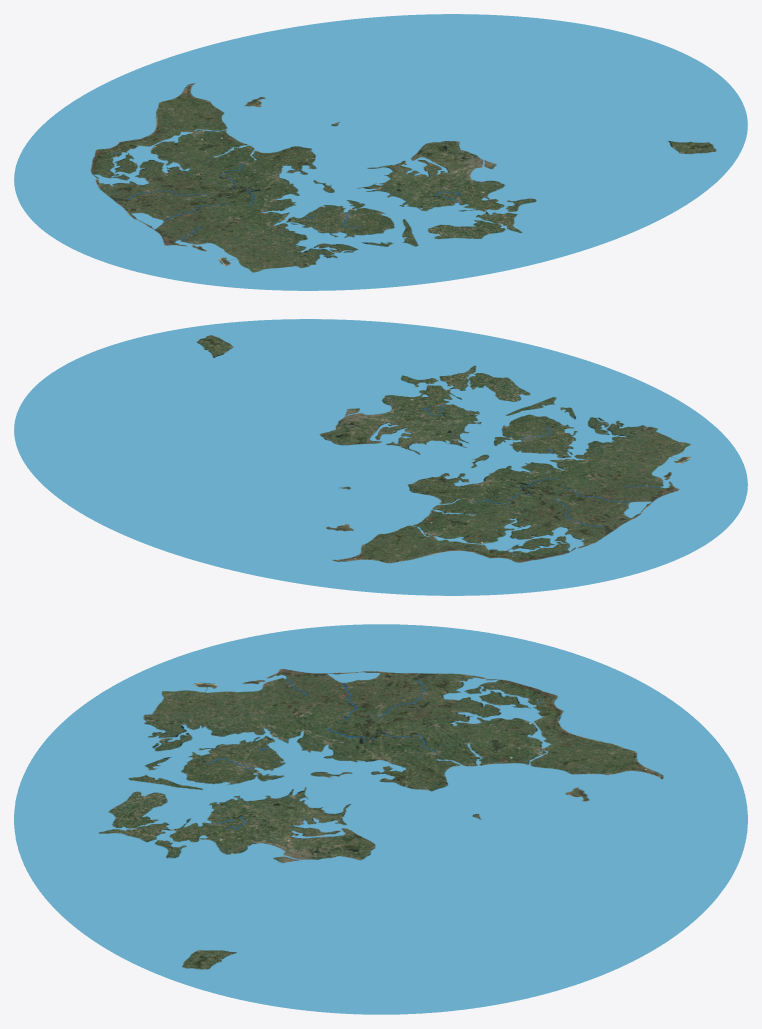
File: DNK-previa-terrain.glb
3 views of the same model, one above another, from view 1: azimuth 30°, elevation 25°; view 2: azimuth 150°, elevation 25°; view 3: azimuth 270°, elevation 25° (orthographic). The views are drawn at different scales.
Visible parts, largest first — view 1: Dinamarca; view 2: Dinamarca; view 3: Dinamarca.
Part boxes in pixels (bbox=[...]): Dinamarca: bbox=[14, 14, 747, 290]; Dinamarca: bbox=[14, 319, 747, 595]; Dinamarca: bbox=[14, 624, 747, 1014].
Size of the model in its own units: 2.33 by 0.00549 by 1.85.
Materials: 1 (1 with a texture image).
